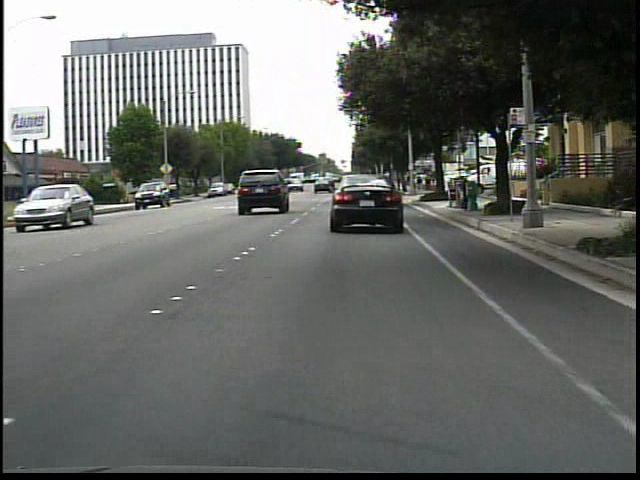person: (414, 172, 424, 192), (423, 174, 432, 194)
